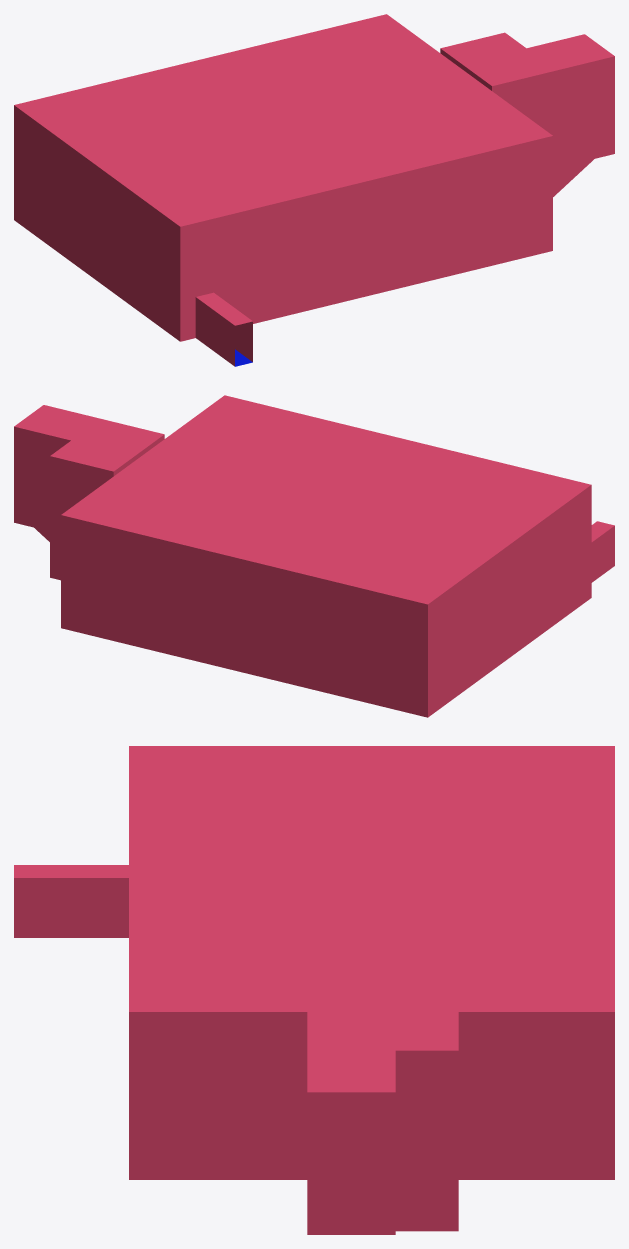
The model's file is Dungeon final_.glb.
3 renders of one model, top to bottom at view 1: azimuth 30°, elevation 25°; view 2: azimuth 150°, elevation 25°; view 3: azimuth 270°, elevation 25°, orthographic. The views are drawn at different scales.
Visible parts, largest first — view 1: Plane-.col, Cube-.col; view 2: Plane-.col, Cube-.col; view 3: Plane-.col, Cube-.col.
Part boxes in pixels (x1,y1,x2,y2): Plane-.col: (14,14,552,366); Cube-.col: (440,32,614,196); Plane-.col: (61,395,614,717); Cube-.col: (14,405,164,580); Plane-.col: (14,746,614,1179); Cube-.col: (307,1004,458,1234).
Bounding box in the file's own units: 138 × 33.96 × 99.27.
